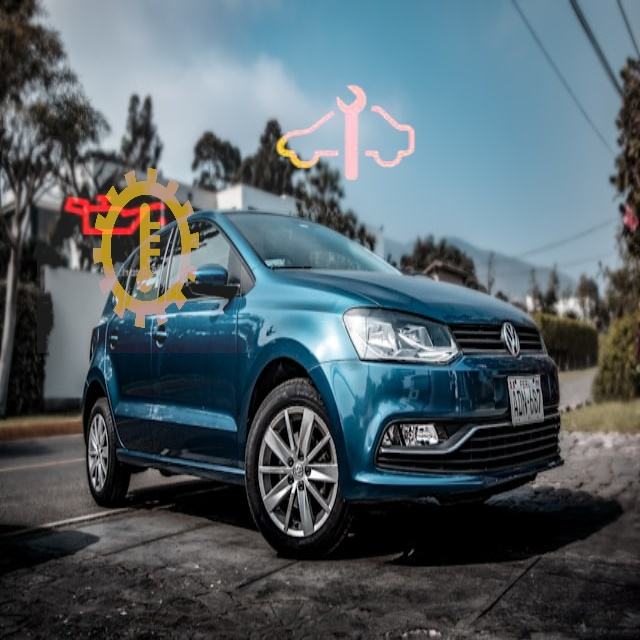symbol: (37, 136, 254, 353), (253, 43, 437, 227), (47, 148, 182, 283)
